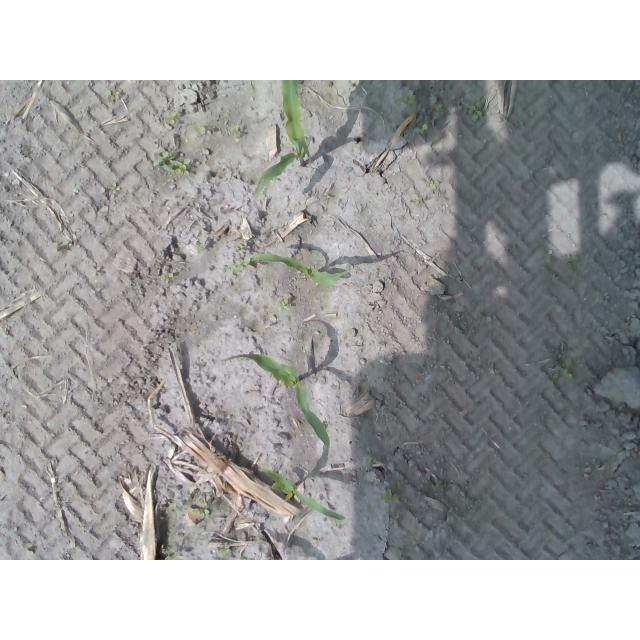Maize: (220, 352, 333, 447), (252, 80, 312, 201), (259, 466, 346, 523), (249, 253, 346, 288)
Weeds: (155, 151, 193, 177), (551, 356, 575, 381), (234, 244, 251, 272), (383, 489, 401, 506), (469, 103, 483, 122), (402, 88, 418, 104), (193, 506, 211, 518), (159, 546, 173, 560), (276, 297, 290, 311), (414, 124, 428, 137), (164, 112, 177, 125), (434, 479, 447, 491), (229, 123, 240, 137), (192, 124, 207, 134), (109, 181, 120, 194), (216, 547, 230, 557), (161, 272, 171, 284), (433, 103, 443, 113), (104, 89, 112, 99)
